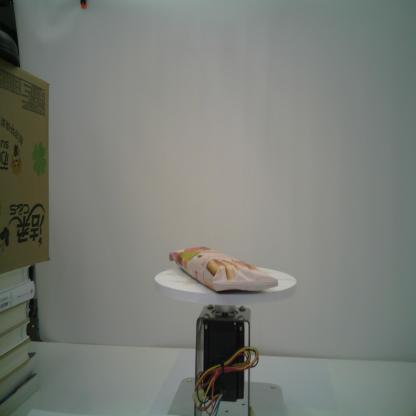Dessert: (166, 245, 278, 294)
